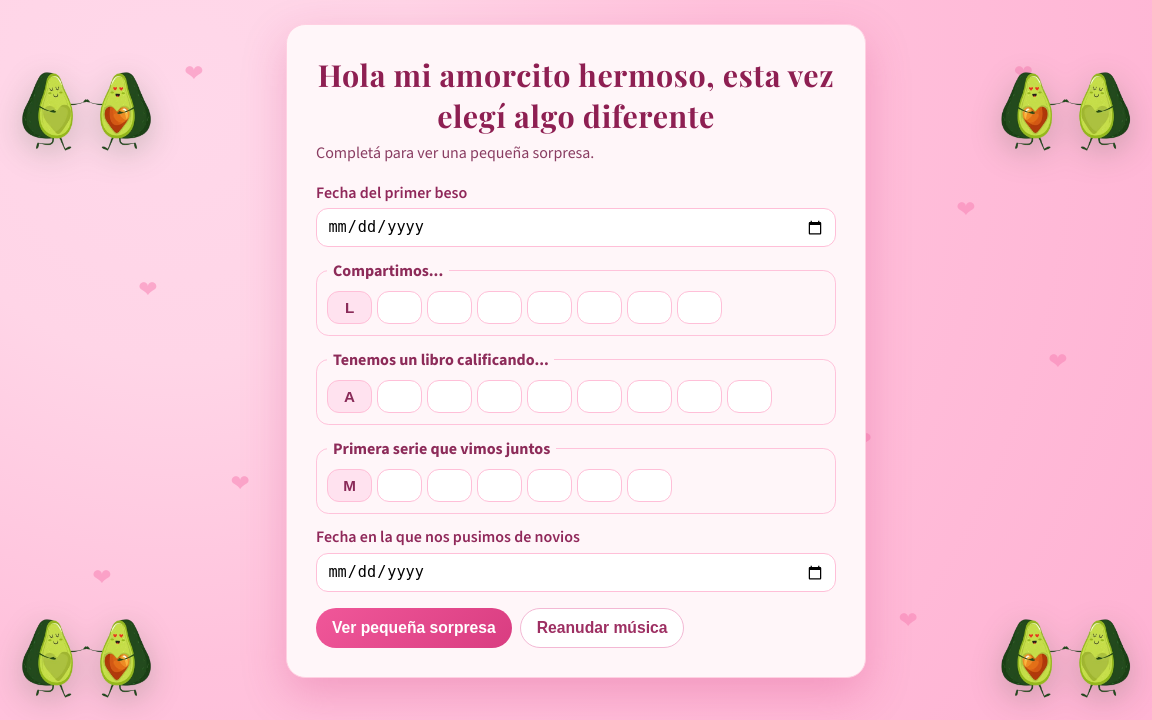
Test case: Login flow › shows info notice when submitting incomplete form
Expected: the date field named "firstKissDate" is shown, [316,208,836,247]
Click the submit button at (414, 629), box [316,608,512,649]
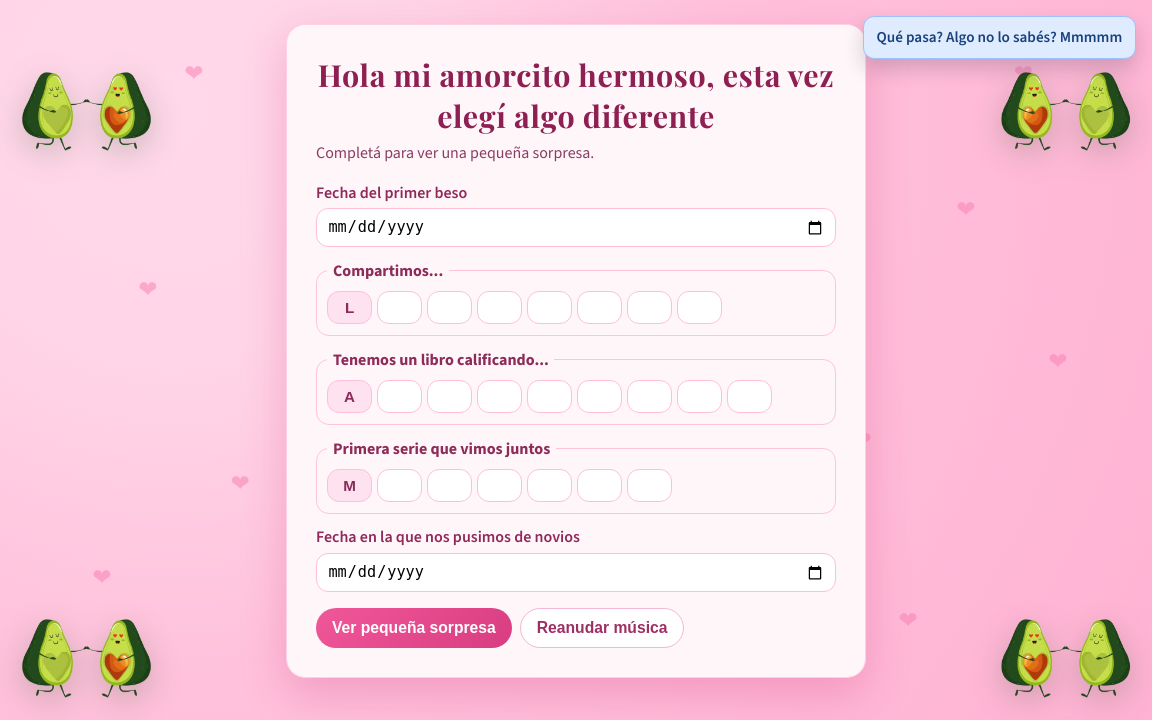
Now the text "Qué pasa? Algo no lo sabés? Mmmmm" is shown, box [863,16,1136,59]
